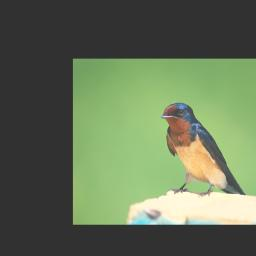Swallow: (160, 102, 247, 198)
